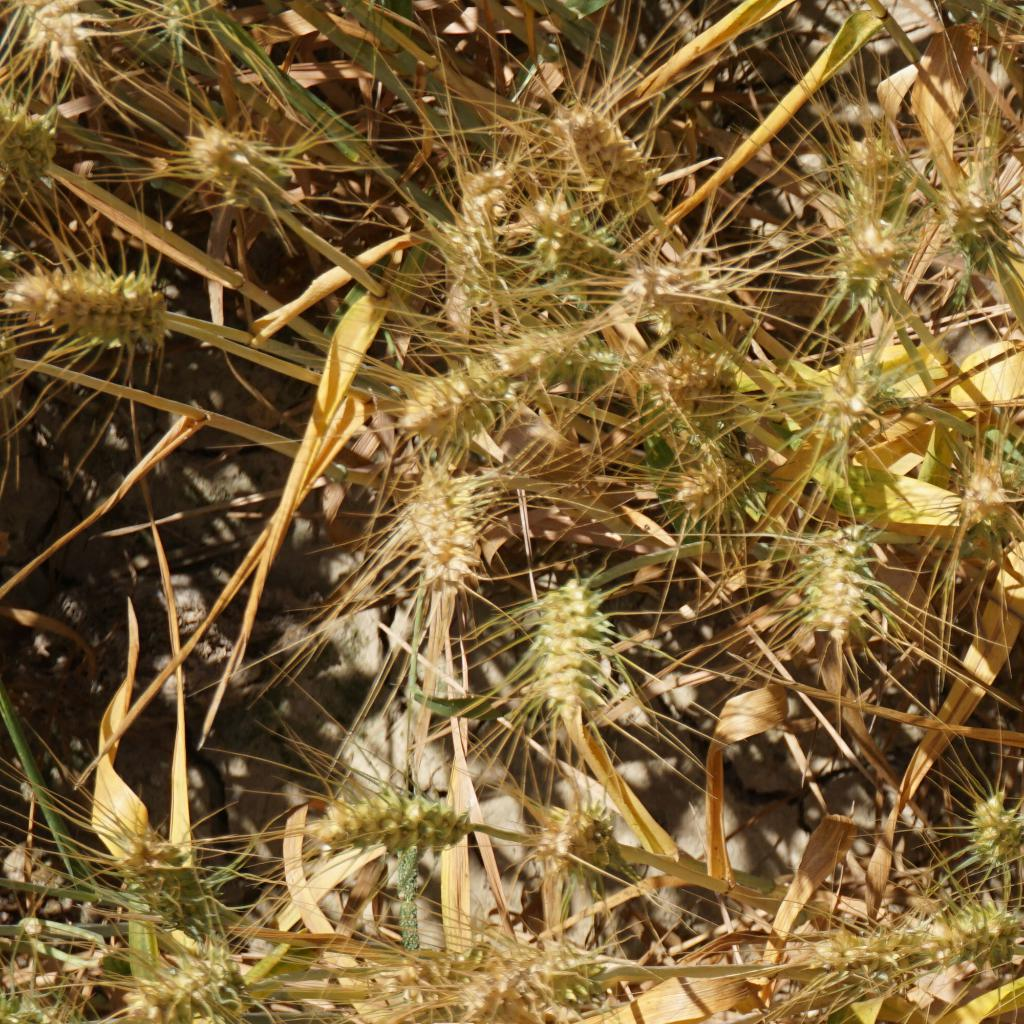0-0: (359, 930, 531, 1024), (544, 93, 665, 225), (521, 561, 615, 728), (394, 452, 498, 593), (7, 267, 193, 345), (308, 772, 464, 864), (394, 344, 514, 449), (172, 111, 288, 210), (443, 156, 516, 295), (612, 250, 732, 334), (663, 446, 766, 543), (523, 182, 624, 280), (113, 955, 252, 1024), (789, 531, 868, 648), (799, 905, 917, 978), (528, 800, 620, 890), (809, 359, 903, 444), (452, 950, 557, 1024), (502, 324, 625, 382), (0, 1, 118, 60), (0, 86, 66, 187), (641, 335, 739, 403), (113, 828, 197, 901), (955, 783, 1024, 867), (950, 456, 1024, 530), (945, 896, 1024, 963), (835, 208, 908, 280), (947, 179, 1011, 260), (836, 119, 897, 183), (150, 0, 210, 63)
